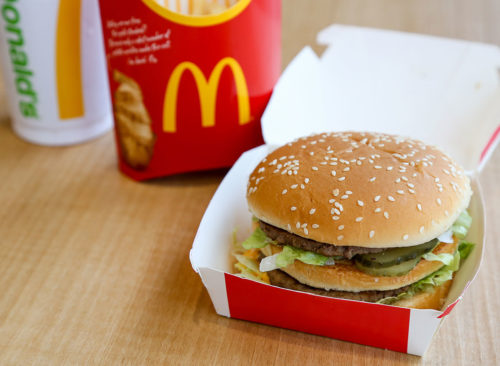mcdonalds: (156, 51, 256, 138)
